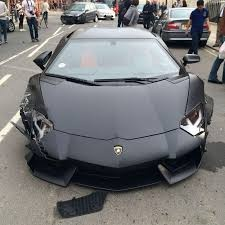Broken-glass: (28, 109, 50, 140)
Dent: (19, 80, 49, 159)
